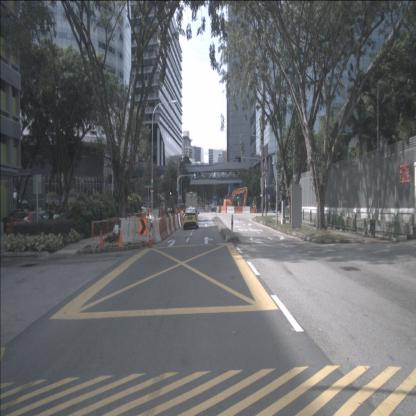barrier: (122, 218, 150, 245), (152, 220, 162, 245), (160, 220, 170, 240), (166, 216, 171, 238), (168, 217, 173, 234), (226, 206, 234, 214), (242, 206, 250, 214), (175, 214, 179, 230), (172, 216, 176, 231), (234, 207, 242, 214), (171, 216, 174, 232), (178, 213, 181, 228), (177, 214, 180, 228), (221, 206, 226, 214), (216, 206, 220, 214), (219, 206, 222, 214), (254, 206, 257, 214)
cone: (99, 228, 104, 250), (118, 226, 123, 247), (148, 230, 152, 248), (251, 208, 253, 214)
